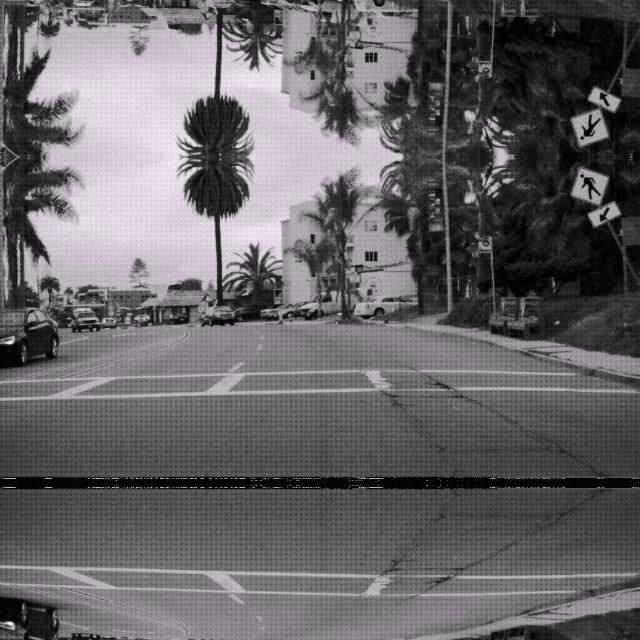pedestrianCrossing: (570, 164, 608, 204), (570, 108, 608, 148)
